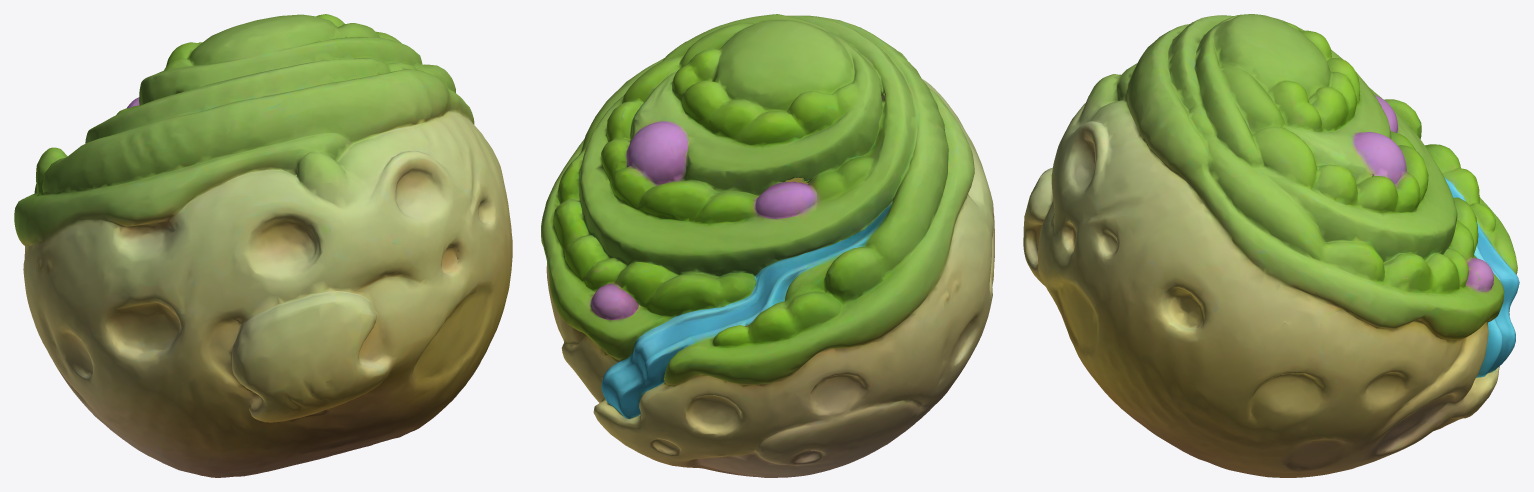
The model's file is planet_tea.glb.
The picture shows the model from 3 angles, left to right: view 1: azimuth 30°, elevation 25°; view 2: azimuth 150°, elevation 25°; view 3: azimuth 270°, elevation 25°; orthographic projection. The views are drawn at different scales.
Parts seen in each view (by area): view 1: geometry_0; view 2: geometry_0; view 3: geometry_0.
Part boxes in pixels (x1,y1,x2,y2): geometry_0: (14,14,512,477); geometry_0: (541,14,994,477); geometry_0: (1023,14,1519,477).
Size of the model in its own units: 0.8788 by 0.8935 by 0.943.
1 material, 1 textured.
